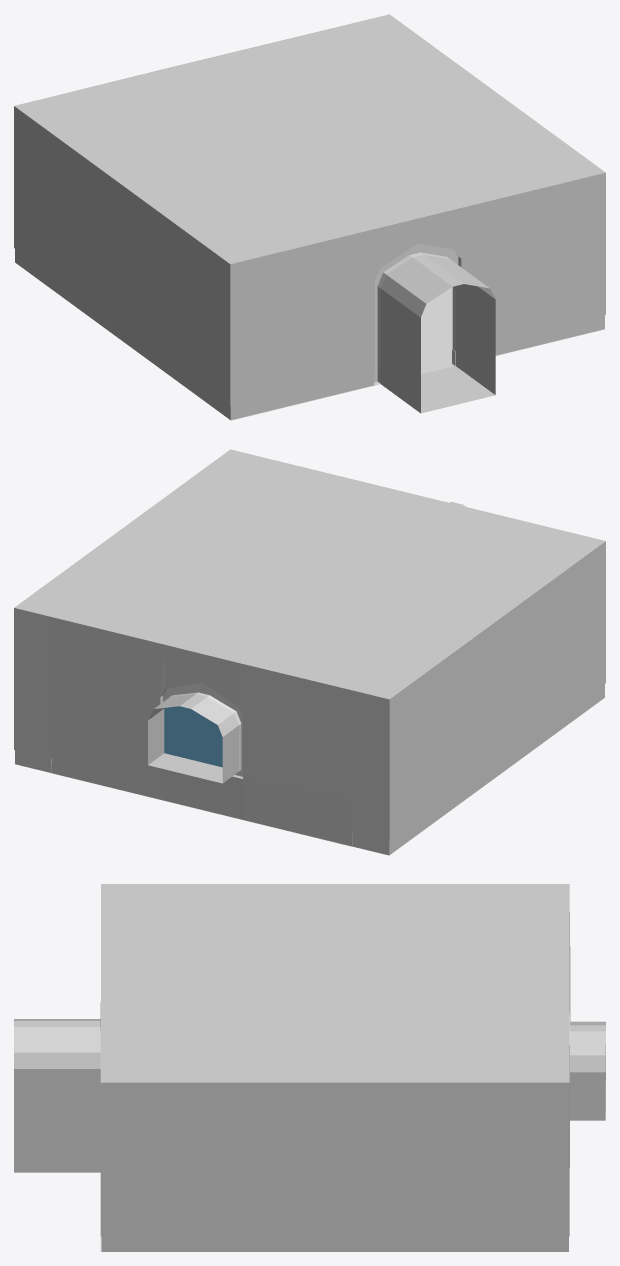
File: SkillRoom_Einstein.fbx
3 views of the same model, one above another, from view 1: azimuth 30°, elevation 25°; view 2: azimuth 150°, elevation 25°; view 3: azimuth 270°, elevation 25° (orthographic). The views are drawn at different scales.
Parts seen in each view (by area): view 1: Techo Sala Habilidad; view 2: Techo Sala Habilidad, Cristal ventana Habilidad; view 3: Techo Sala Habilidad.
Part boxes in pixels (<box>): Techo Sala Habilidad: <box>14,14,605,420</box>; Techo Sala Habilidad: <box>14,449,605,855</box>; Cristal ventana Habilidad: <box>164,706,222,767</box>; Techo Sala Habilidad: <box>14,884,605,1251</box>.
Bounding box in the file's own units: 1004 × 400 × 1265.
